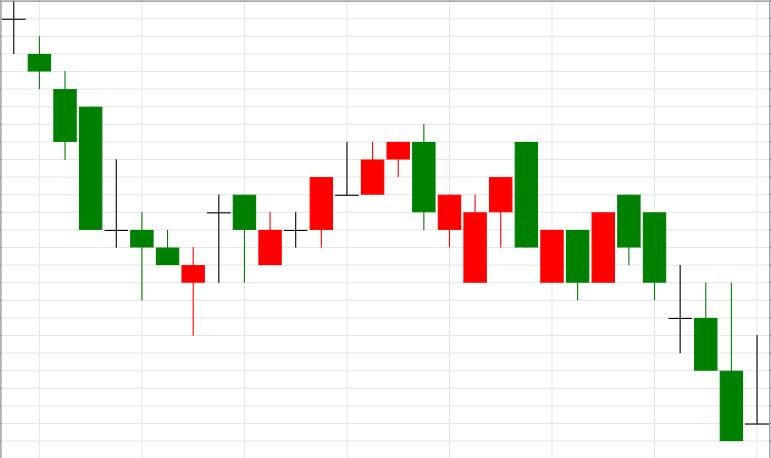bearish_engulfing_fall: (182, 123, 435, 337)
